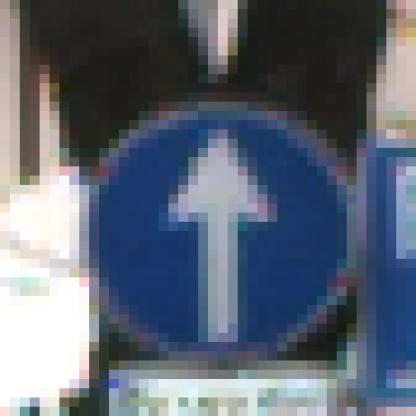AheadOnly: (51, 56, 368, 371)
